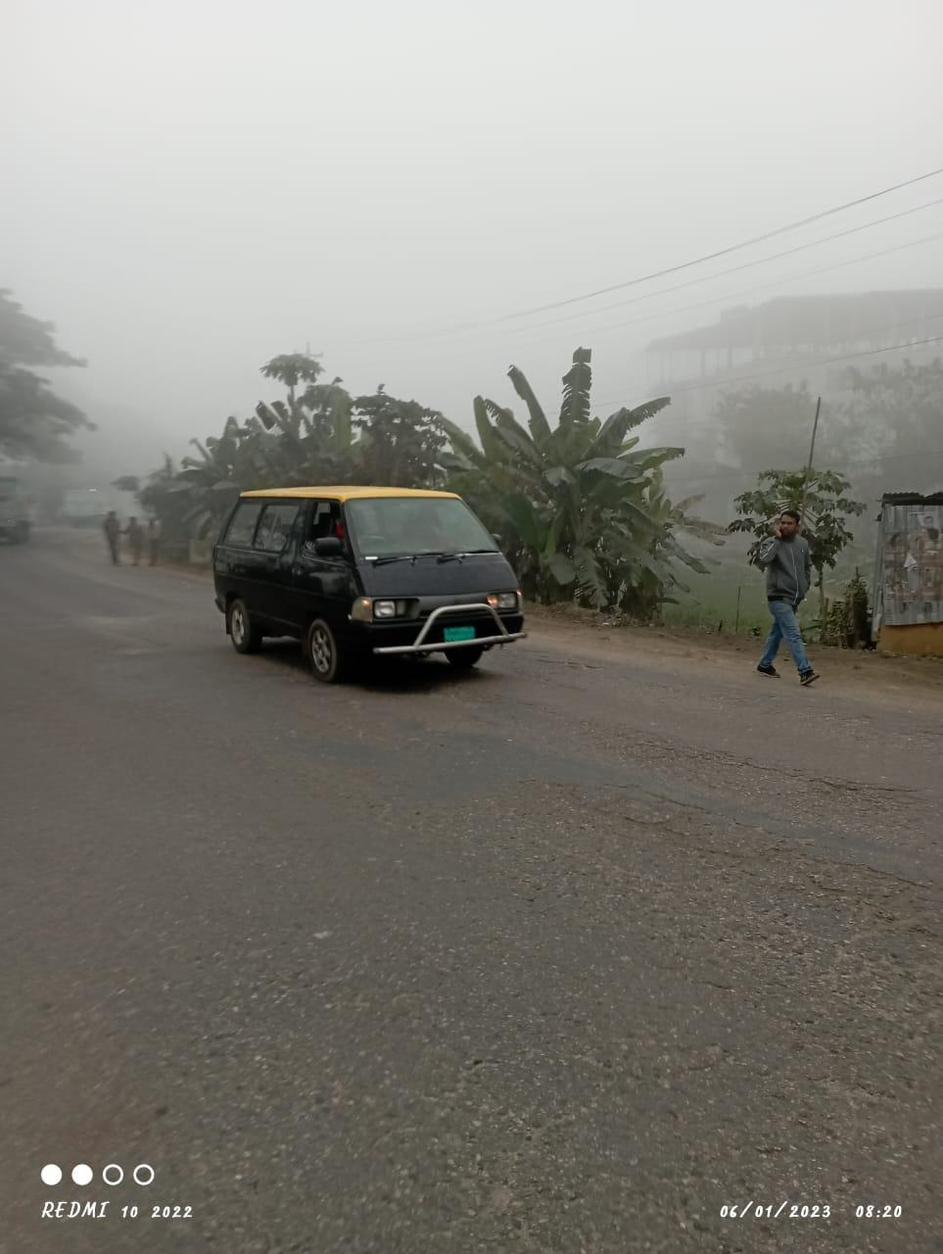Car: (198, 469, 541, 683)
